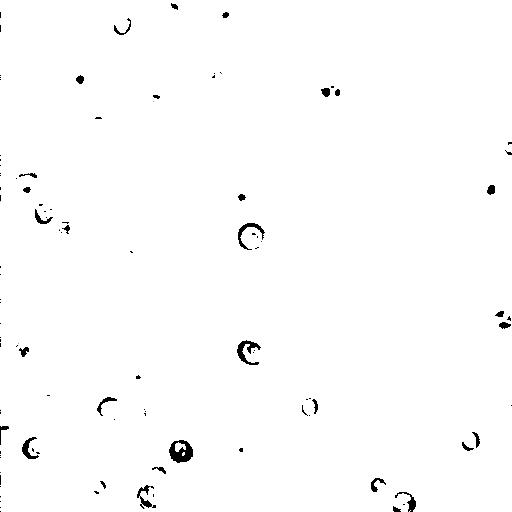micro-algae: (364, 29, 444, 110), (14, 71, 85, 142), (358, 448, 436, 512), (60, 414, 124, 478), (16, 119, 80, 181), (15, 350, 77, 412), (152, 328, 207, 377), (42, 0, 115, 30), (1, 474, 58, 512), (184, 346, 230, 392), (1, 15, 36, 75), (118, 383, 162, 428), (475, 60, 512, 112), (28, 176, 69, 216), (5, 171, 42, 209), (471, 170, 508, 208), (310, 71, 352, 104), (200, 392, 237, 429), (83, 108, 116, 142), (482, 294, 512, 330), (127, 367, 159, 399), (235, 222, 267, 252), (136, 482, 169, 511), (201, 60, 232, 90), (93, 395, 125, 422), (227, 431, 256, 460), (236, 338, 266, 366), (225, 1, 271, 19), (123, 230, 150, 260), (169, 437, 196, 466), (67, 66, 94, 94), (469, 128, 494, 156), (20, 435, 47, 460), (12, 339, 36, 366), (216, 3, 243, 26), (390, 490, 418, 512), (163, 0, 196, 18), (34, 202, 56, 226), (55, 218, 79, 240), (1, 424, 19, 453), (266, 91, 289, 113), (300, 394, 321, 418), (112, 14, 134, 36), (461, 430, 481, 454), (301, 344, 320, 367), (369, 476, 389, 496), (129, 404, 149, 423), (149, 464, 168, 483), (88, 479, 108, 496), (434, 66, 451, 85), (244, 503, 271, 511), (234, 191, 249, 204), (503, 139, 511, 157), (505, 395, 512, 413)
